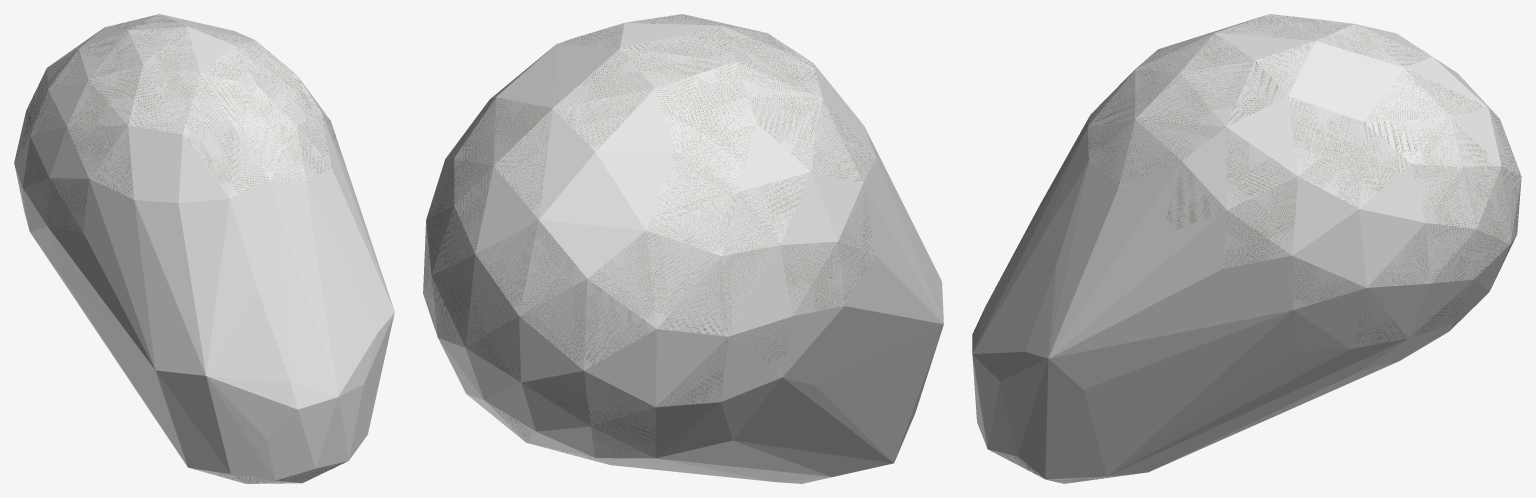
File: skull.low.webp.glb
3 views of the same model, side by side, from view 1: azimuth 30°, elevation 25°; view 2: azimuth 150°, elevation 25°; view 3: azimuth 270°, elevation 25° (orthographic). The views are drawn at different scales.
Visible parts, largest first — view 1: COL, LOD1_body; view 2: COL, LOD1_body; view 3: COL, LOD1_body.
Part boxes in pixels (x1,y1,x2,y2): COL: (14, 14, 394, 483); LOD1_body: (14, 16, 343, 483); COL: (423, 14, 943, 483); LOD1_body: (423, 14, 874, 463); COL: (972, 14, 1521, 483); LOD1_body: (991, 14, 1520, 482).
Bounding box in the file's own units: 0.1555 × 0.2005 × 0.2336.
Materials: 1 (1 with a texture image).
